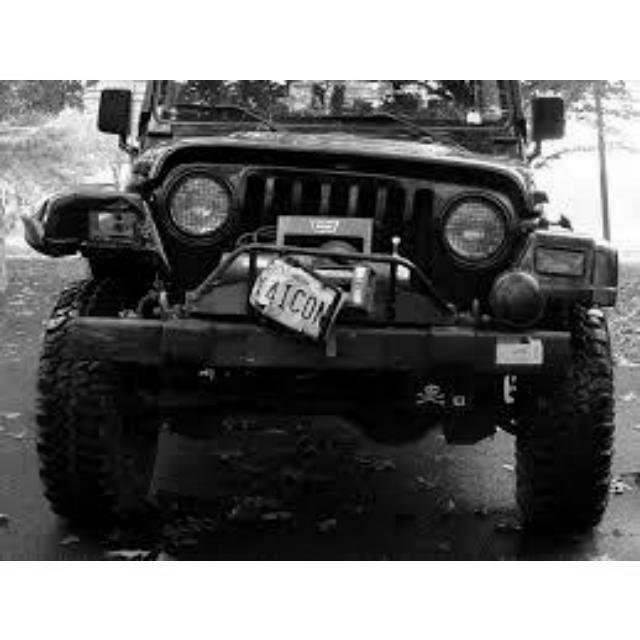Headlight-damage: (37, 191, 153, 270)
